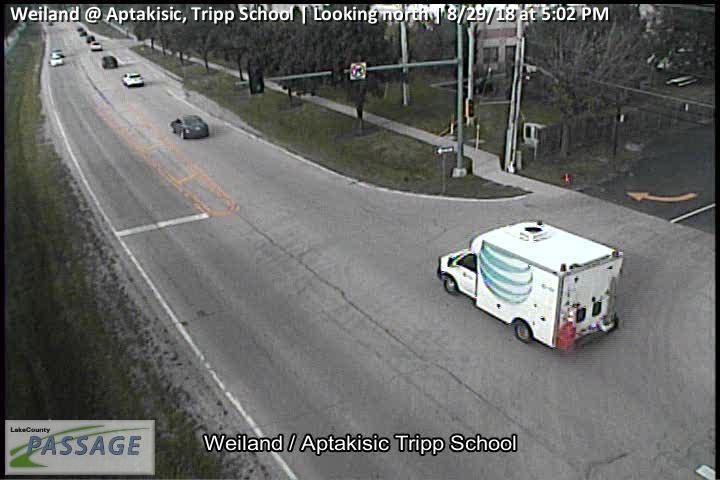SUV: (121, 71, 144, 88), (100, 55, 118, 70), (90, 40, 103, 51)
Sedan: (169, 113, 209, 140), (86, 36, 96, 43), (79, 30, 88, 37)
Truck: (436, 219, 626, 358)
